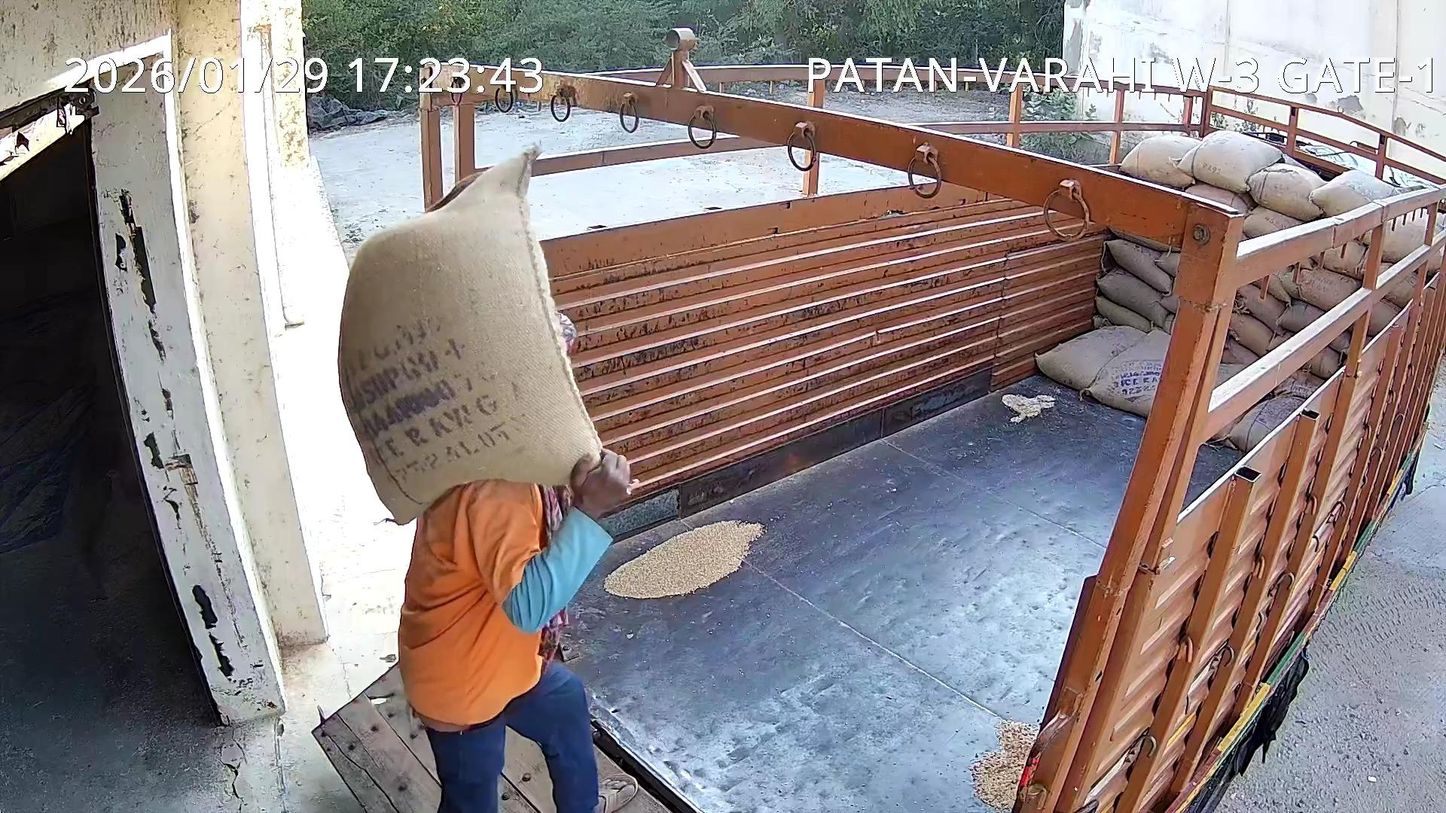Sack: (337, 148, 599, 522)
